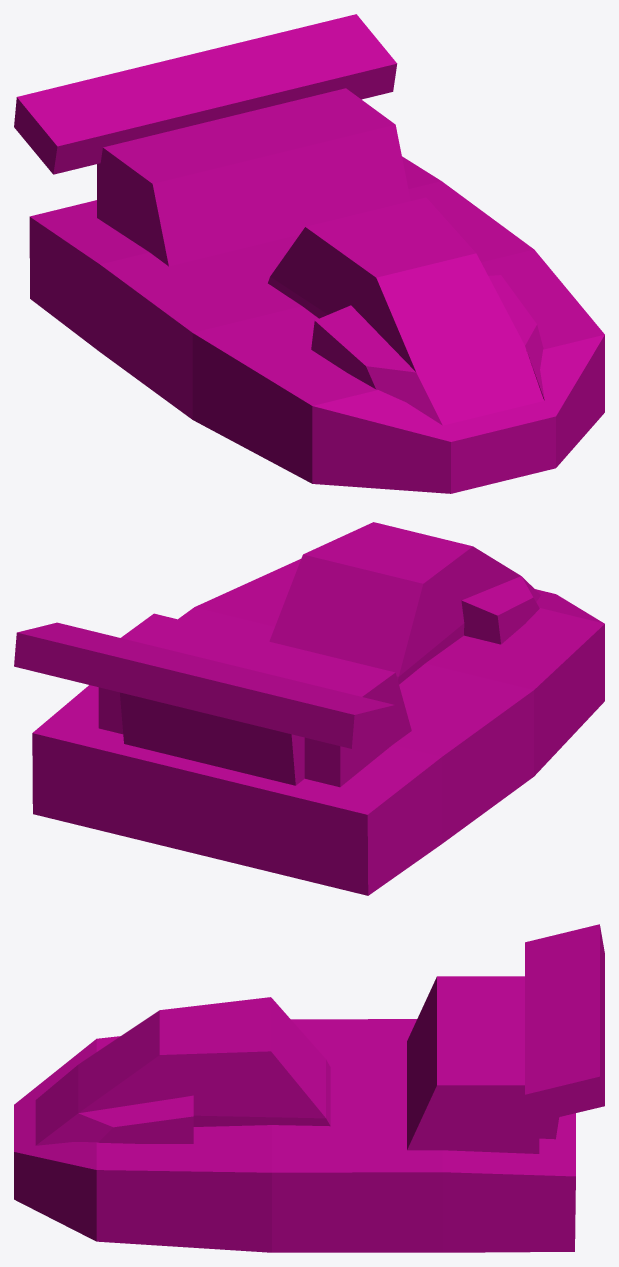
File: SM_Veh_Kart_01_Preset_05_Collision.fbx
The picture shows the model from 3 angles, top to bottom: view 1: azimuth 30°, elevation 25°; view 2: azimuth 150°, elevation 25°; view 3: azimuth 270°, elevation 25°; orthographic projection. The views are drawn at different scales.
Parts seen in each view (by area): view 1: SM_Veh_Kart_01_Preset_05_Collision; view 2: SM_Veh_Kart_01_Preset_05_Collision; view 3: SM_Veh_Kart_01_Preset_05_Collision.
Part boxes in pixels (bbox=[...]): SM_Veh_Kart_01_Preset_05_Collision: bbox=[14, 14, 604, 493]; SM_Veh_Kart_01_Preset_05_Collision: bbox=[14, 522, 604, 895]; SM_Veh_Kart_01_Preset_05_Collision: bbox=[14, 924, 604, 1252].
Size of the model in its own units: 142 by 75.88 by 230.
